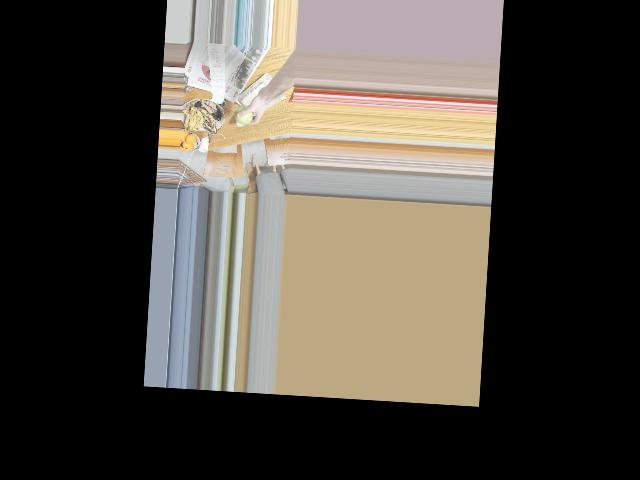apple: (234, 103, 255, 126)
